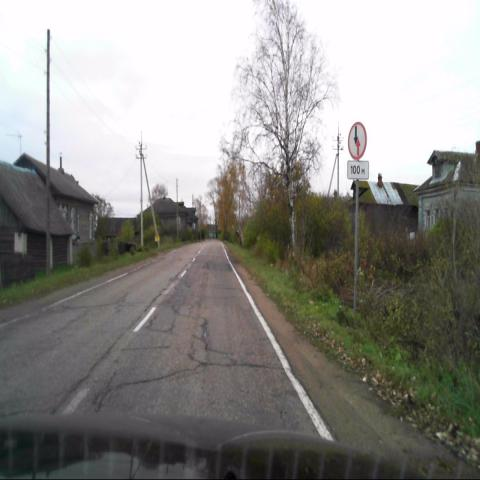2_6: (347, 120, 368, 161)
8_1_1: (347, 161, 370, 180)
